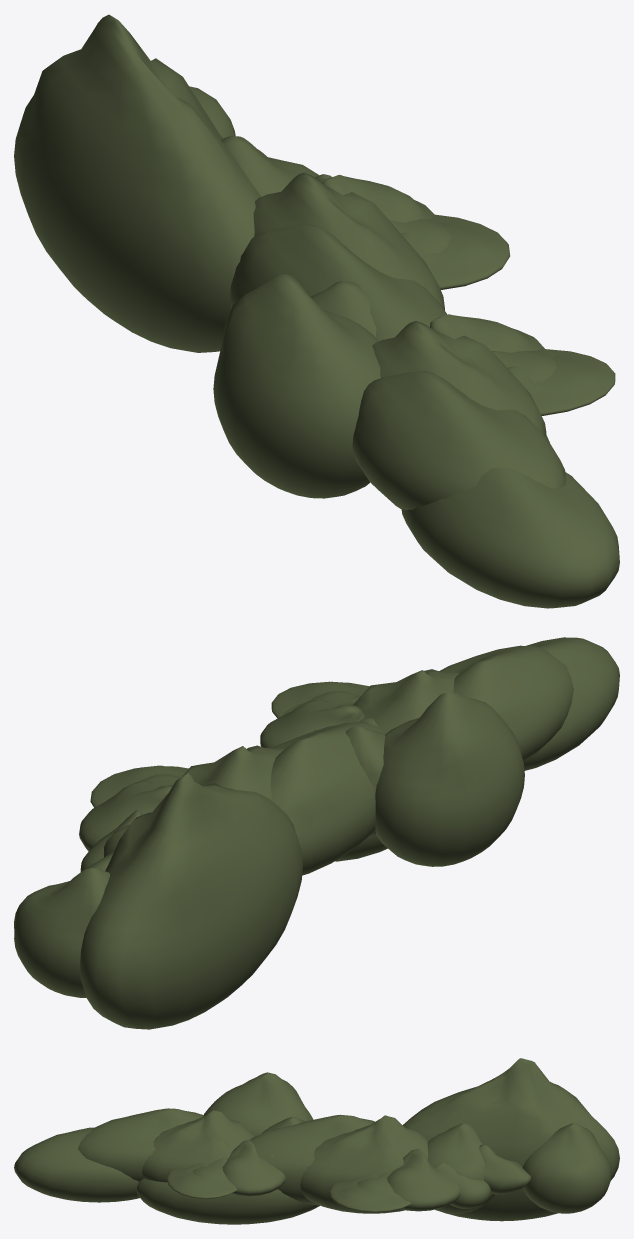
Rendered from montana.fbx.
3 renders of one model, top to bottom at view 1: azimuth 30°, elevation 25°; view 2: azimuth 150°, elevation 25°; view 3: azimuth 270°, elevation 25°, orthographic. The views are drawn at different scales.
Visible parts, largest first — view 1: pSphere17, pSphere19, polySurface7, pSphere14, pSphere6, pSphere5, pSphere9, pSphere7, pSphere15, pSphere11, pSphere2, pSphere1 (+4 smaller); view 2: pSphere17, pSphere19, pSphere6, pSphere14, pSphere18, polySurface7, pSphere9, pSphere5, pSphere1, pSphere11, pSphere12, pSphere15 (+4 smaller); view 3: pSphere17, pSphere5, pSphere18, polySurface7, polySurface6, pSphere14, pSphere9, pSphere6, pSphere19, pSphere1, pSphere2, pSphere11 (+7 smaller).
Boxes of the visible parts, bbox=[...] form: pSphere17: bbox=[14, 14, 261, 352]; pSphere19: bbox=[213, 274, 380, 498]; polySurface7: bbox=[401, 467, 619, 608]; pSphere14: bbox=[352, 371, 565, 510]; pSphere6: bbox=[230, 224, 447, 341]; pSphere5: bbox=[253, 172, 444, 310]; pSphere9: bbox=[372, 321, 546, 436]; pSphere7: bbox=[401, 214, 510, 289]; pSphere15: bbox=[507, 349, 615, 415]; pSphere11: bbox=[430, 314, 544, 352]; pSphere2: bbox=[221, 136, 318, 196]; pSphere1: bbox=[322, 174, 435, 222]; pSphere17: bbox=[79, 772, 302, 1029]; pSphere19: bbox=[375, 692, 524, 866]; pSphere6: bbox=[270, 721, 385, 875]; pSphere14: bbox=[439, 645, 573, 760]; pSphere18: bbox=[14, 868, 109, 997]; polySurface7: bbox=[523, 637, 619, 770]; pSphere9: bbox=[353, 669, 459, 733]; pSphere5: bbox=[182, 745, 284, 800]; pSphere1: bbox=[79, 782, 172, 851]; pSphere11: bbox=[260, 700, 365, 748]; pSphere12: bbox=[345, 727, 385, 836]; pSphere15: bbox=[271, 681, 369, 718]; pSphere17: bbox=[402, 1058, 619, 1221]; pSphere5: bbox=[300, 1115, 428, 1213]; pSphere18: bbox=[522, 1123, 611, 1213]; polySurface7: bbox=[14, 1127, 139, 1202]; polySurface6: bbox=[136, 1139, 319, 1224]; pSphere14: bbox=[78, 1108, 203, 1181]; pSphere9: bbox=[142, 1110, 254, 1182]; pSphere6: bbox=[251, 1114, 374, 1205]; pSphere19: bbox=[204, 1072, 313, 1136]; pSphere1: bbox=[387, 1149, 460, 1211]; pSphere2: bbox=[427, 1123, 494, 1213]; pSphere11: bbox=[222, 1140, 285, 1196].
Size of the model in its own units: 2875 by 2158 by 7605.
